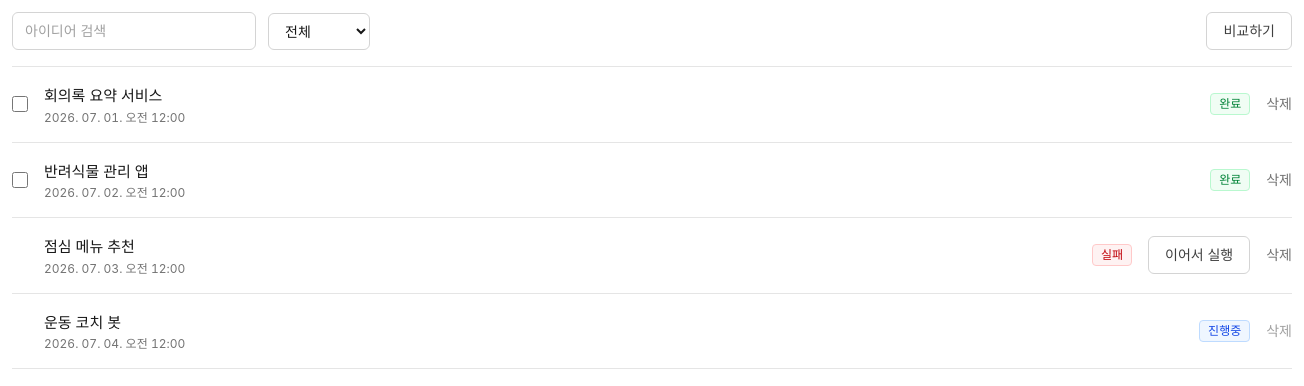
Test: RunList 삭제 › 확인을 취소하면 요청이 나가지 않고 run이 남는다
Expected: the link "회의록 요약 서비스" is shown, [44,86,162,105]
Click the button "삭제" in the row of "회의록 요약 서비스" at (1279, 104), box [1266,94,1292,114]
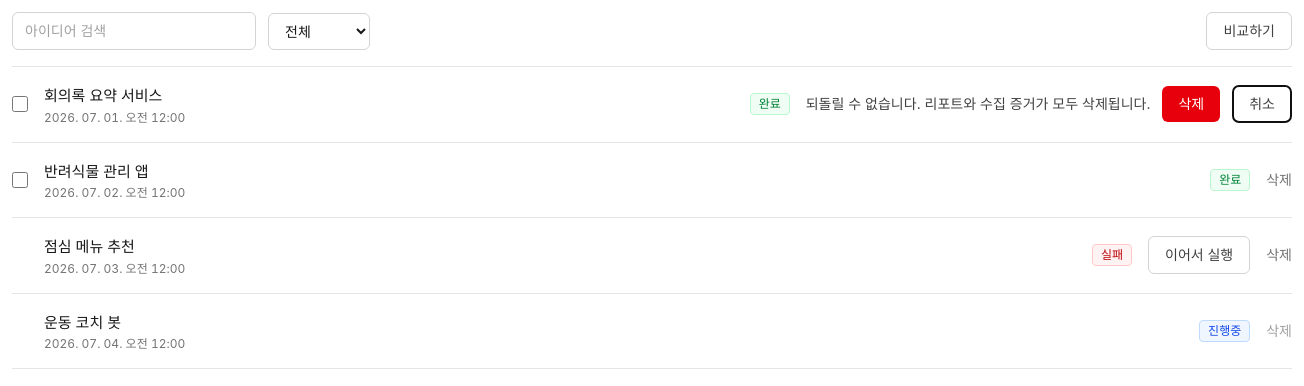
Click the button "취소" at (1262, 104), box [1232,85,1292,123]
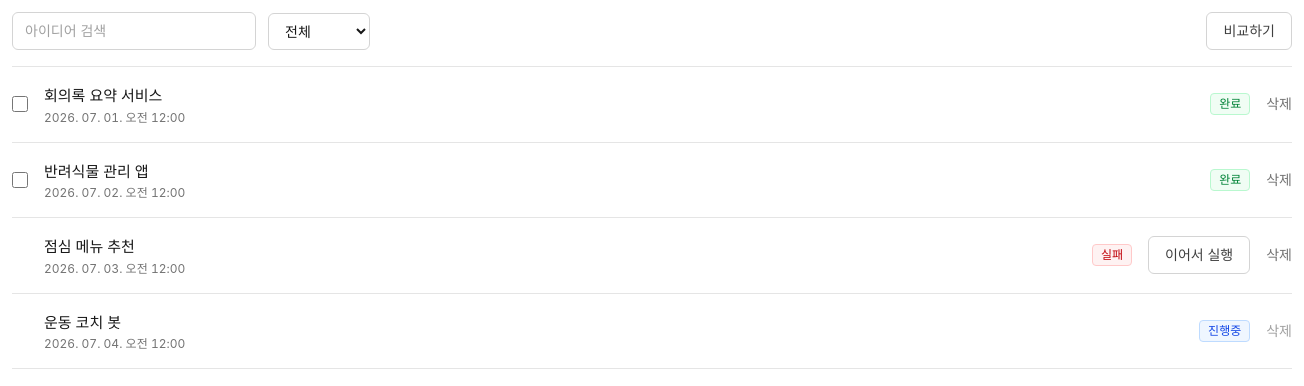
Expected: the link "회의록 요약 서비스" is shown, [44,86,162,105]
Expected: the text "되돌릴 수 없습니다" is gone
